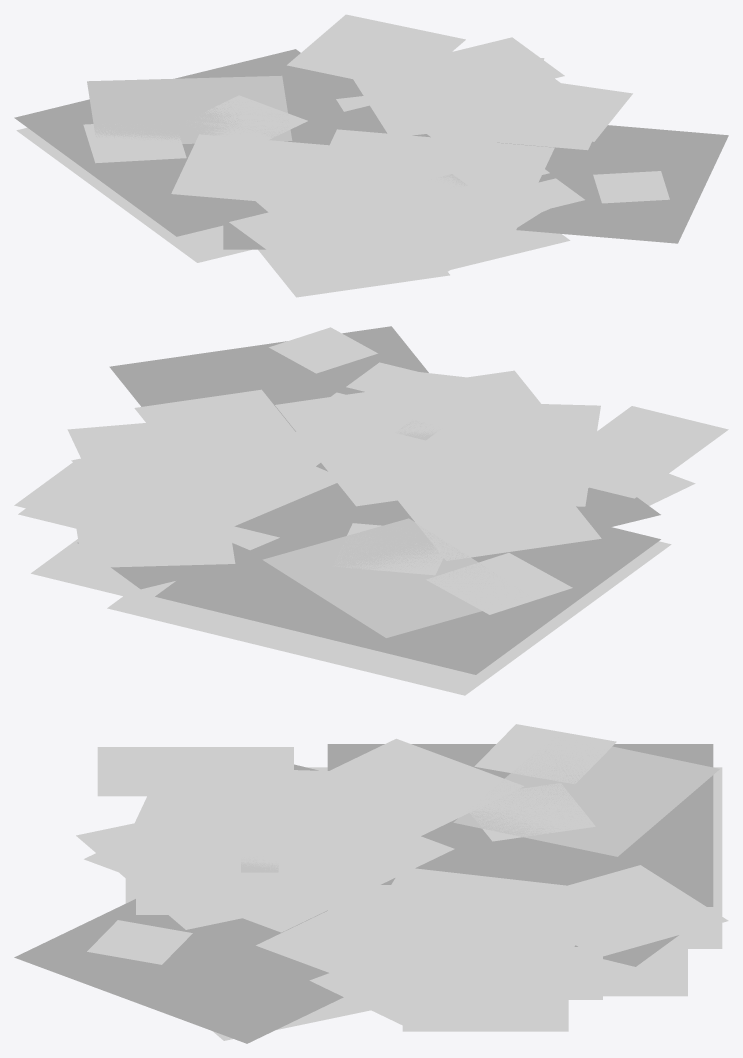
The model's file is CloudLayers.fbx.
3 views of the same model, one above another, from view 1: azimuth 30°, elevation 25°; view 2: azimuth 150°, elevation 25°; view 3: azimuth 270°, elevation 25° (orthographic). The views are drawn at different scales.
Visible parts, largest first — view 1: FlatCloud9_5, FlatCloud2_2, FlatCloud2_3, FlatCloud12_10, FlatCloud3_3, FlatCloud9_4, FlatCloud12_8, FlatCloud12_6, FlatCloud8_2, FlatCloud6_5, FlatCloud4_3, FlatCloud11_3 (+14 smaller); view 2: FlatCloud2_3, FlatCloud9_5, FlatCloud12_10, FlatCloud3_3, FlatCloud2_2, FlatCloud9_4, FlatCloud11_3, FlatCloud12_8, FlatCloud12_6, FlatCloud4_3, FlatCloud8_2, FlatCloud2_4 (+17 smaller); view 3: FlatCloud2_2, FlatCloud9_5, FlatCloud12_10, FlatCloud3_3, FlatCloud2_3, FlatCloud9_4, FlatCloud4_3, FlatCloud12_8, FlatCloud12_6, FlatCloud8_2, FlatCloud6_3, FlatCloud12_7 (+18 smaller).
Part boxes in pixels (<box>): FlatCloud9_5: <box>304,129,554,239</box>; FlatCloud2_2: <box>497,125,728,243</box>; FlatCloud2_3: <box>14,49,359,236</box>; FlatCloud12_10: <box>344,44,564,135</box>; FlatCloud3_3: <box>87,75,292,143</box>; FlatCloud9_4: <box>171,134,340,200</box>; FlatCloud12_8: <box>287,14,465,90</box>; FlatCloud12_6: <box>229,201,396,282</box>; FlatCloud8_2: <box>472,92,610,150</box>; FlatCloud6_5: <box>348,213,539,274</box>; FlatCloud4_3: <box>231,161,389,220</box>; FlatCloud11_3: <box>16,127,251,262</box>; FlatCloud2_3: <box>155,521,660,674</box>; FlatCloud9_5: <box>275,370,575,506</box>; FlatCloud12_10: <box>54,417,343,540</box>; FlatCloud3_3: <box>262,518,501,637</box>; FlatCloud2_2: <box>109,326,428,431</box>; FlatCloud9_4: <box>394,473,601,560</box>; FlatCloud11_3: <box>107,541,671,695</box>; FlatCloud12_8: <box>72,499,235,568</box>; FlatCloud12_6: <box>538,406,728,498</box>; FlatCloud4_3: <box>388,438,592,521</box>; FlatCloud8_2: <box>134,389,304,455</box>; FlatCloud2_4: <box>234,463,414,545</box>; FlatCloud2_2: <box>14,899,343,1043</box>; FlatCloud9_5: <box>84,776,454,932</box>; FlatCloud12_10: <box>348,868,609,978</box>; FlatCloud3_3: <box>453,737,719,856</box>; FlatCloud2_3: <box>327,744,713,906</box>; FlatCloud9_4: <box>286,738,523,840</box>; FlatCloud4_3: <box>256,769,395,850</box>; FlatCloud12_8: <box>508,865,728,958</box>; FlatCloud12_6: <box>97,747,293,796</box>; FlatCloud8_2: <box>256,901,452,984</box>; FlatCloud6_3: <box>309,961,477,1025</box>; FlatCloud12_7: <box>474,724,616,784</box>.
Size of the model in its own units: 283 by 17.44 by 284.
